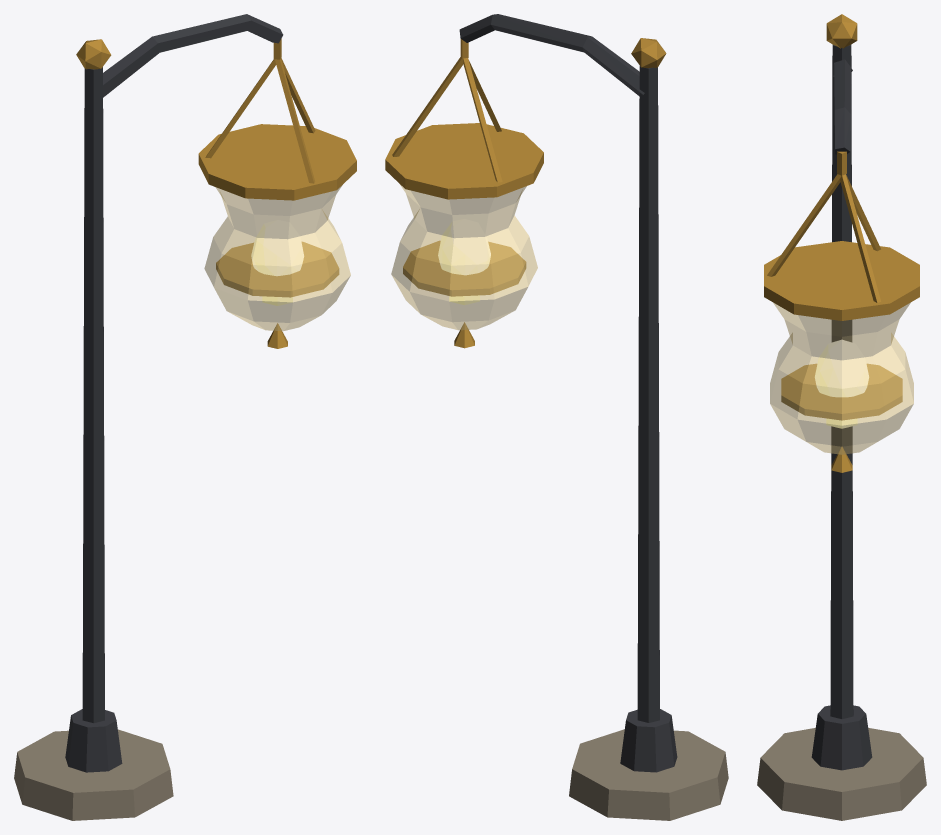
The model's file is ZB_obje_kandil.glb.
3 renders of one model, left to right at view 1: azimuth 30°, elevation 25°; view 2: azimuth 150°, elevation 25°; view 3: azimuth 270°, elevation 25°, orthographic. The views are drawn at different scales.
Parts seen in each view (by area): view 1: ZB_obje_kandil, kandil; view 2: ZB_obje_kandil, kandil; view 3: kandil, ZB_obje_kandil.
Part boxes in pixels (x1,y1,x2,y2): ZB_obje_kandil: (14, 14, 283, 820); kandil: (198, 38, 356, 348); ZB_obje_kandil: (459, 14, 728, 820); kandil: (385, 39, 543, 348); kandil: (764, 151, 919, 472); ZB_obje_kandil: (757, 14, 926, 820).
Size of the model in its own units: 0.635 by 1.4 by 0.28.
